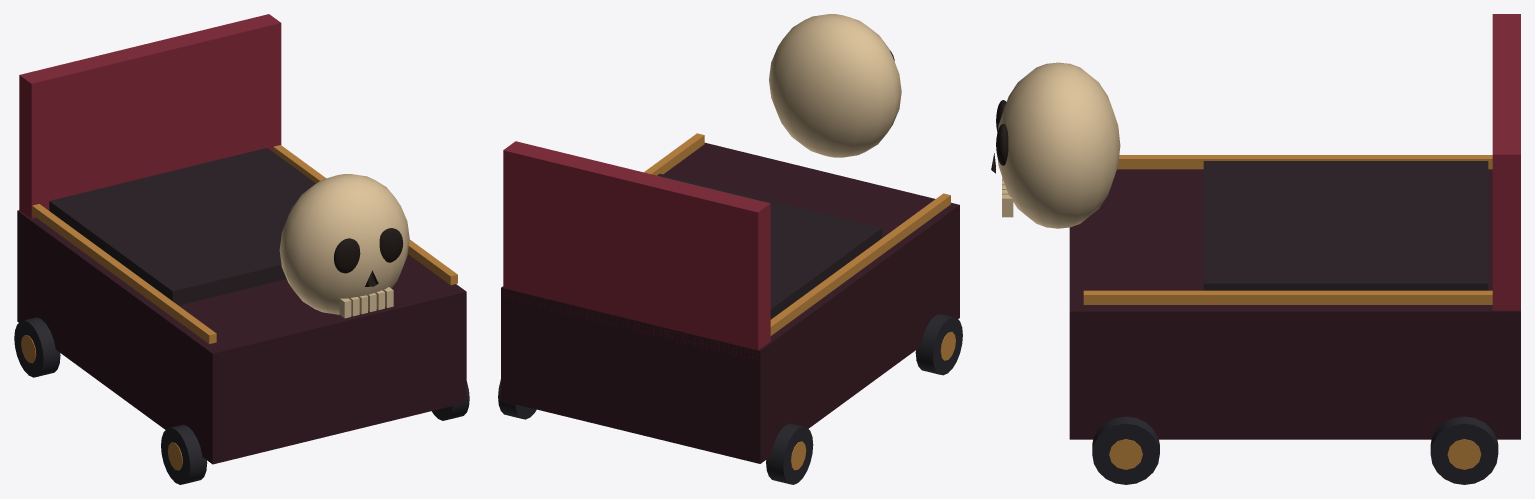
Rendered from mia-ghost_cart.glb.
3 views of the same model, side by side, from view 1: azimuth 30°, elevation 25°; view 2: azimuth 150°, elevation 25°; view 3: azimuth 270°, elevation 25° (orthographic). The views are drawn at different scales.
Parts seen in each view (by area): view 1: Body_dark, Body_velvet, Body_leather, Body_ivory, Body_brass, Body_iron, Body_black; view 2: Body_dark, Body_velvet, Body_ivory, Body_leather, Body_brass, Body_iron; view 3: Body_dark, Body_leather, Body_ivory, Body_brass, Body_velvet, Body_iron, Body_black.
Boxes of the visible parts, bbox=[...] form: Body_dark: bbox=[17, 210, 466, 464]; Body_velvet: bbox=[19, 14, 281, 218]; Body_leather: bbox=[49, 148, 315, 305]; Body_ivory: bbox=[279, 174, 409, 318]; Body_brass: bbox=[21, 145, 457, 470]; Body_iron: bbox=[14, 317, 469, 484]; Body_black: bbox=[334, 228, 403, 286]; Body_dark: bbox=[501, 142, 959, 463]; Body_velvet: bbox=[503, 141, 770, 361]; Body_ivory: bbox=[769, 14, 901, 157]; Body_leather: bbox=[657, 174, 882, 319]; Body_brass: bbox=[644, 133, 955, 470]; Body_iron: bbox=[498, 314, 962, 484]; Body_dark: bbox=[1069, 169, 1520, 439]; Body_leather: bbox=[1203, 161, 1488, 290]; Body_ivory: bbox=[997, 62, 1120, 228]; Body_brass: bbox=[1083, 155, 1492, 469]; Body_velvet: bbox=[1492, 14, 1520, 310]; Body_iron: bbox=[1092, 416, 1498, 484]; Body_black: bbox=[991, 100, 1008, 173].
Size of the model in its own units: 1.33 by 1.32 by 1.88.
